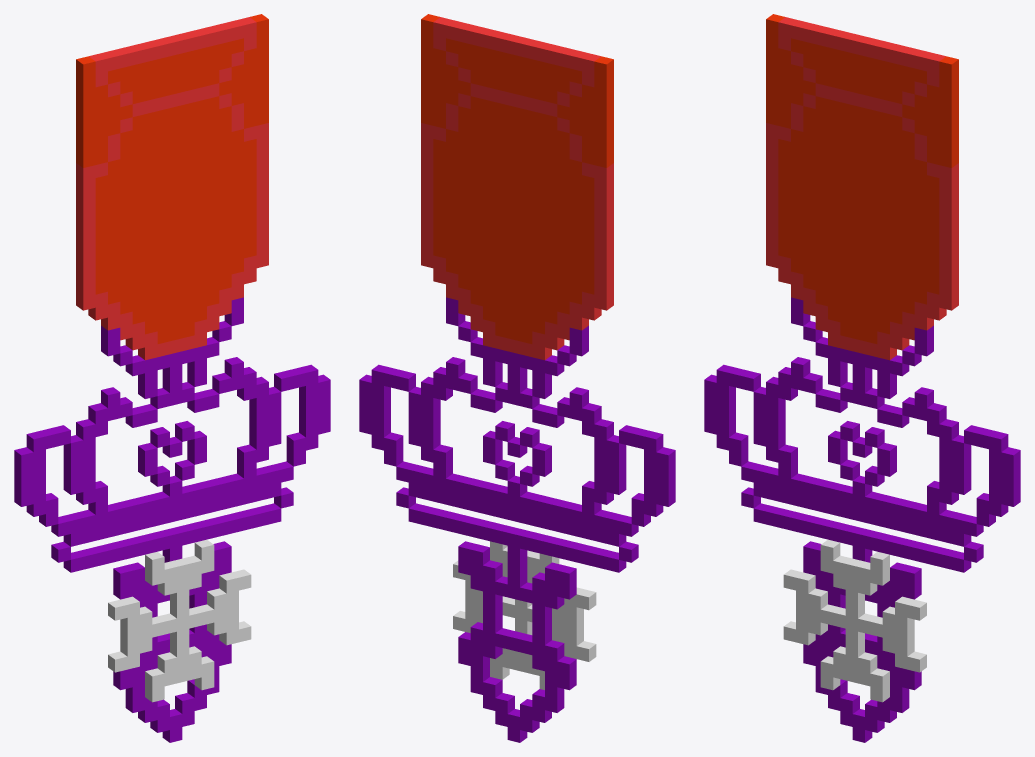
The model's file is médaille.obj.
The picture shows the model from 3 angles, left to right: view 1: azimuth 30°, elevation 25°; view 2: azimuth 150°, elevation 25°; view 3: azimuth 330°, elevation 25°; orthographic projection.
Size of the model in its own units: 2.5 by 5.4 by 0.2.
